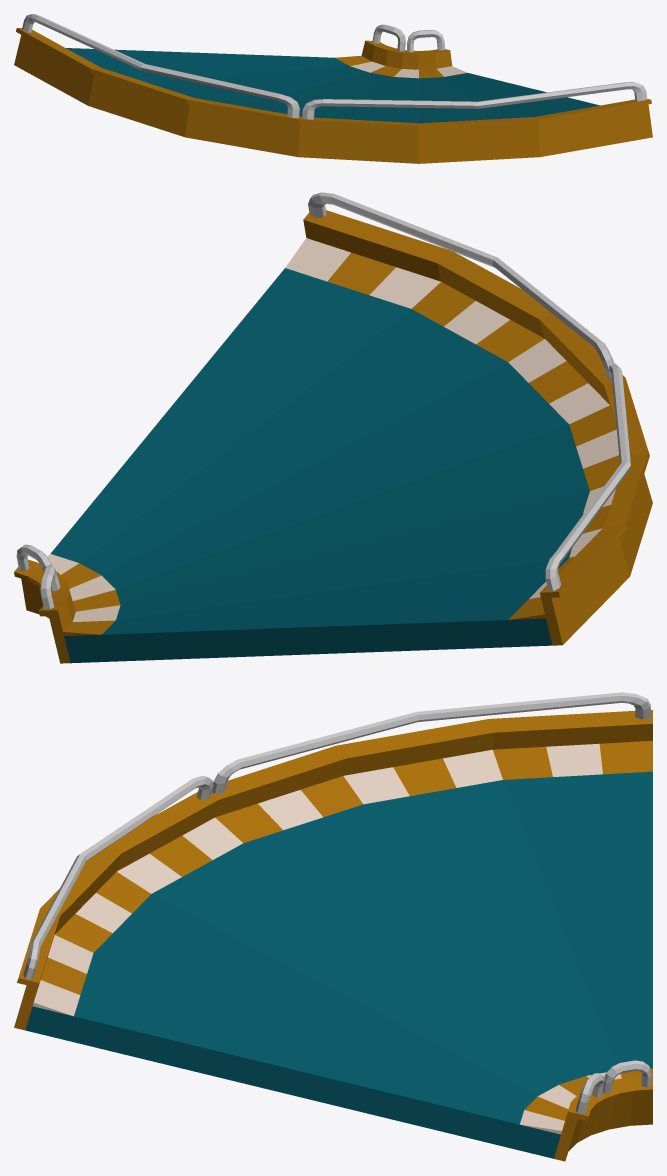
The model's file is bankedRight-90-15_s.FBX.
The picture shows the model from 3 angles, top to bottom: view 1: azimuth 30°, elevation 25°; view 2: azimuth 150°, elevation 25°; view 3: azimuth 270°, elevation 25°; orthographic projection. The views are drawn at different scales.
Visible parts, largest first — view 1: wall_l, bankedRight-90-15_s, wall_r, curbs_r; view 2: bankedRight-90-15_s, wall_l, curbs_l, wall_r, curbs_r; view 3: bankedRight-90-15_s, wall_l, curbs_l, wall_r, curbs_r.
Part boxes in pixels (x1,y1,x2,y2): wall_l: (14, 14, 652, 163); bankedRight-90-15_s: (66, 48, 599, 123); wall_r: (361, 24, 452, 69); curbs_r: (335, 55, 467, 78); bankedRight-90-15_s: (50, 268, 589, 663); wall_l: (303, 192, 652, 645); curbs_l: (285, 238, 619, 619); wall_r: (14, 544, 75, 663); curbs_r: (47, 554, 120, 635); bankedRight-90-15_s: (25, 771, 652, 1158); wall_l: (14, 692, 652, 1030); curbs_l: (32, 740, 652, 1016); wall_r: (554, 1060, 652, 1161); curbs_r: (520, 1068, 652, 1134).
Size of what is drawn, in the model's own units: 224 by 80.3 by 224.
